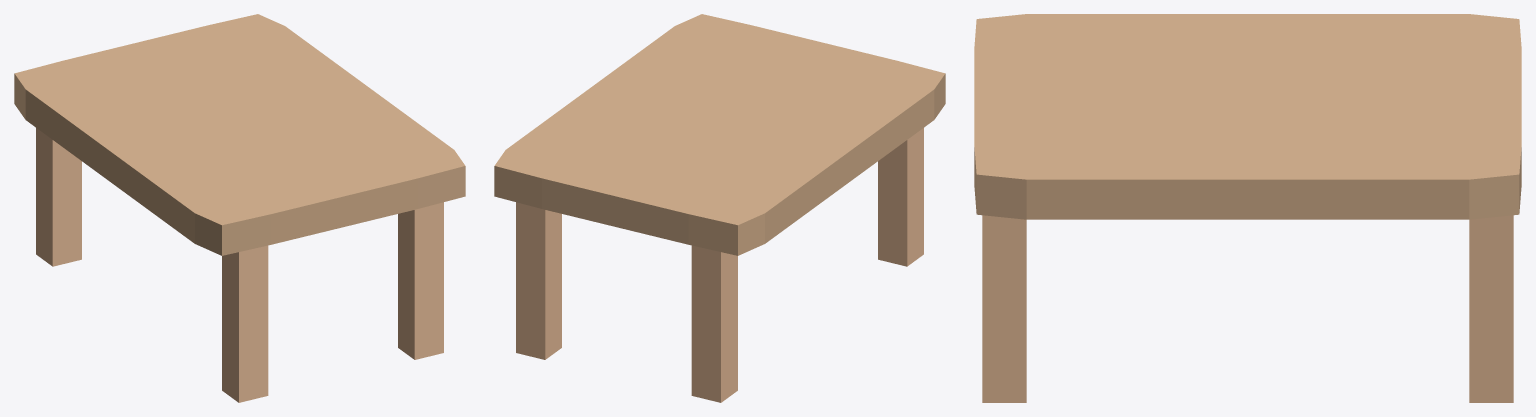
Rendered from Tisch.fbx.
3 renders of one model, left to right at view 1: azimuth 30°, elevation 25°; view 2: azimuth 150°, elevation 25°; view 3: azimuth 270°, elevation 25°, orthographic. The views are drawn at different scales.
Visible parts, largest first — view 1: Würfel; view 2: Würfel; view 3: Würfel.
Part boxes in pixels (box(x1,y1,x2,y2)): Würfel: box(14, 14, 465, 402); Würfel: box(494, 14, 945, 402); Würfel: box(974, 14, 1521, 402).
Size of the model in its own units: 1771 by 1200 by 2474.
